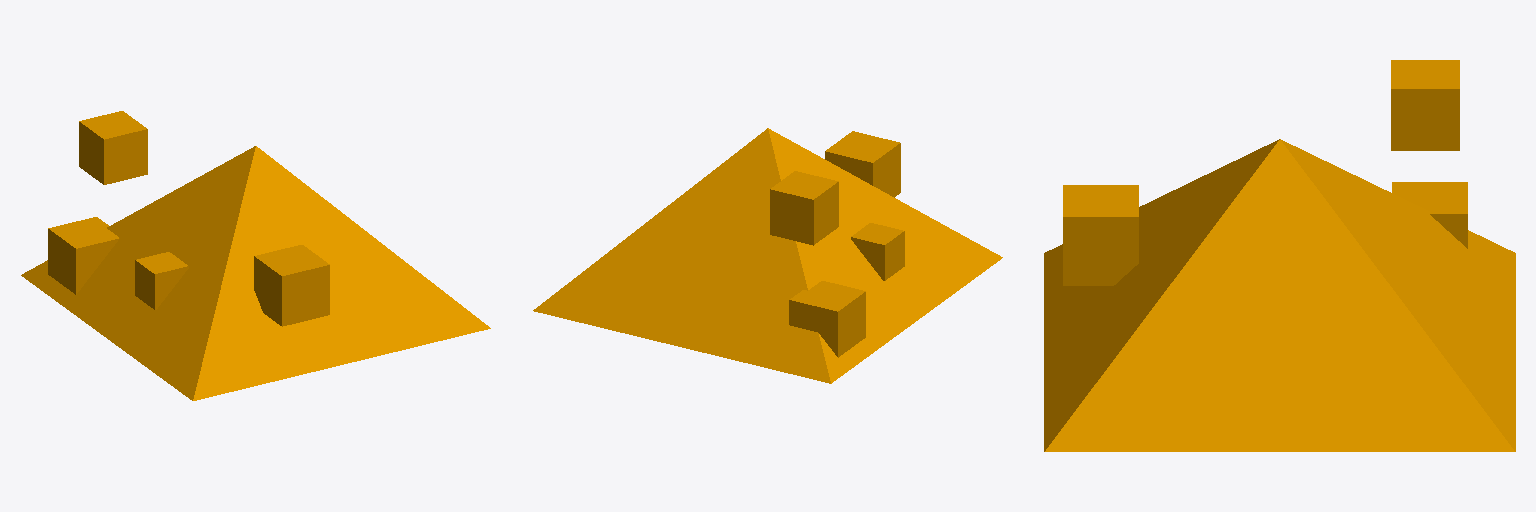
The robot description file, URDF, robot "mountain":
<?xml version="1.0"?>
<robot name="mountain">
  <link name="baseLink">
    <inertial>
      <origin xyz="0 0 0" rpy="0 0 0"/>
      <mass value="1"/>
      <inertia ixx="1" ixy="0" ixz="0" iyy="1" iyz="0" izz="1"/>
    </inertial>
    <visual>
      <origin xyz="0 0 0" rpy="0 0 0"/>
      <geometry>
        <mesh filename="mountain_with_cubes.obj" scale="1 1 1"/>
      </geometry>
    </visual>
    <collision>
      <origin xyz="0 0 0" rpy="0 0 0"/>
      <geometry>
        <mesh filename="mountain_with_cubes.obj" scale="1 1 1"/>
      </geometry>
    </collision>
  </link>
</robot>

--- What the picture shows (computed from the rendered views, not written in the file) ---
3 views of the same robot in one strip: view 1: azimuth 30°, elevation 25°; view 2: azimuth 150°, elevation 25°; view 3: azimuth 270°, elevation 25° (orthographic).
Model mountain with 1 links and 0 joints (none), rooted at baseLink, posed all joints at 0.
Links seen in each view (by area): view 1: baseLink; view 2: baseLink; view 3: baseLink.
Boxes of the visible links, bbox=[...] form: baseLink: bbox=[21, 111, 490, 400]; baseLink: bbox=[533, 128, 1002, 383]; baseLink: bbox=[1044, 60, 1515, 451].
Size in the robot's own frame: 10 by 10 by 5.11 metres.
Meshes: 1 distinct files referenced, 1 mesh visuals loaded (1 OBJ).